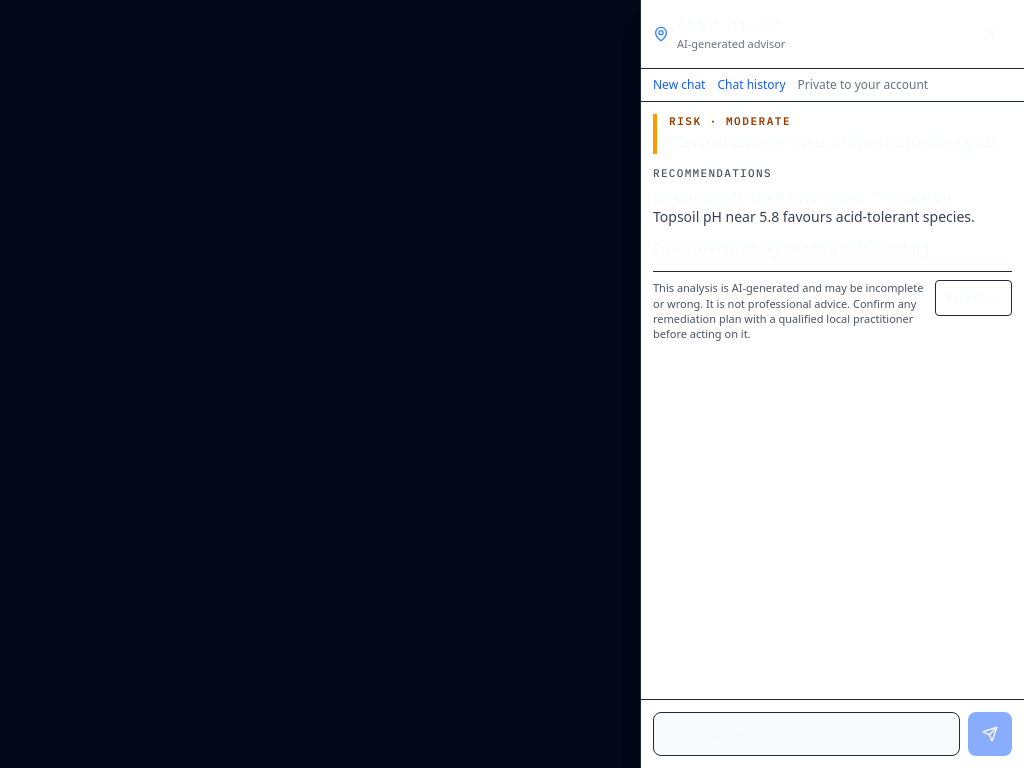
Scenario: regional analysis panel › offers copy and both exports from one menu per report
Click the button "Export".
click(974, 298)  # box [935,280,1012,316]
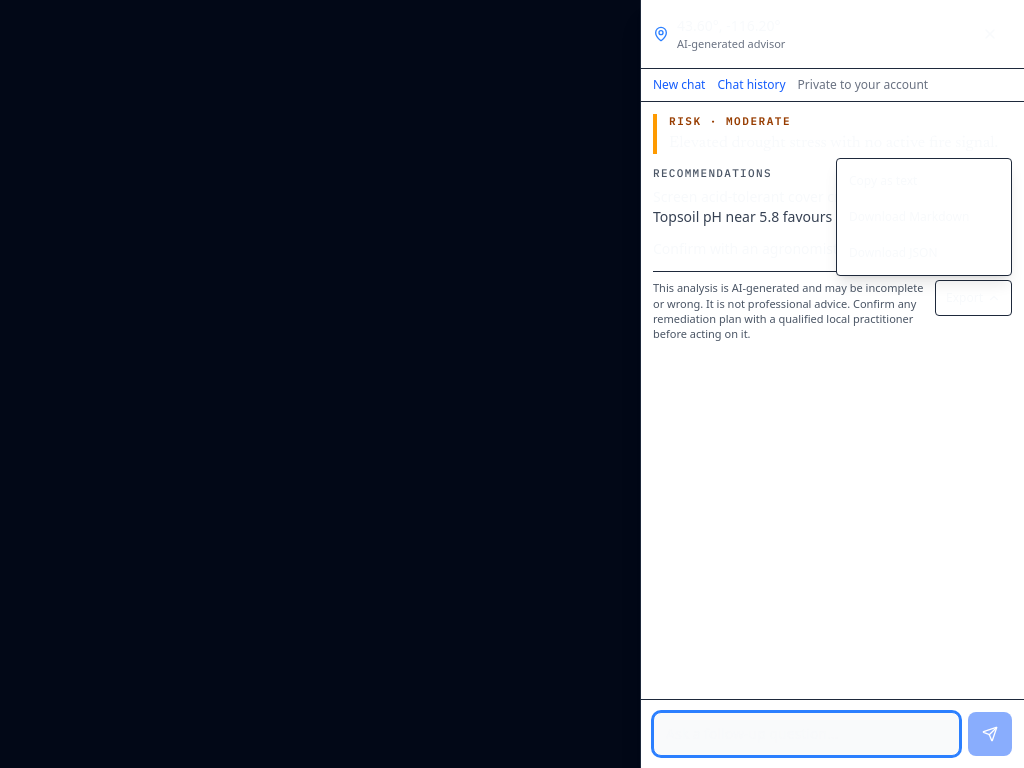
Expected: the button "Copy as text" is shown, [837,163,1011,199]
Expected: the button "Download Markdown" is shown, [837,199,1011,235]
Expected: the button "Download JSON" is shown, [837,235,1011,271]
